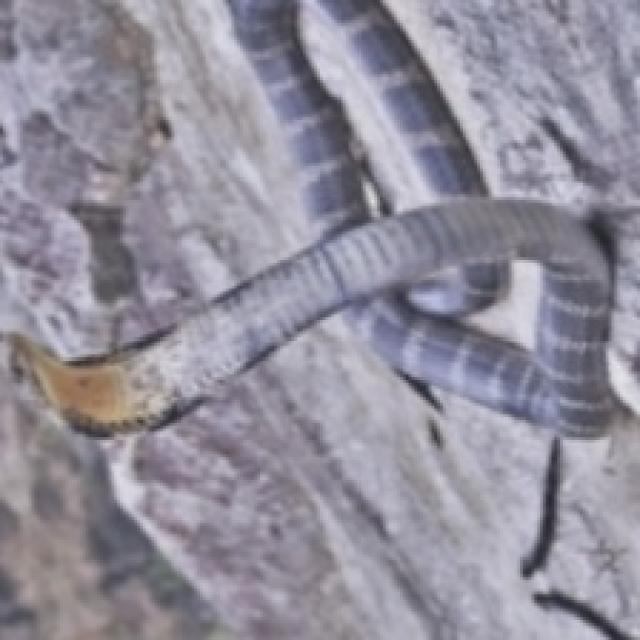king cobra: (0, 317, 637, 637), (0, 117, 609, 434), (0, 0, 306, 349), (403, 9, 637, 203), (303, 14, 420, 206), (400, 254, 543, 354)
